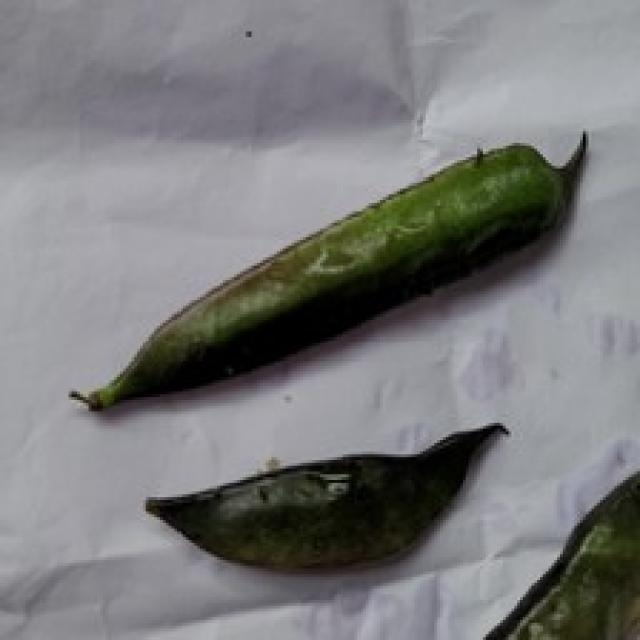Bean: (65, 126, 586, 411), (143, 420, 508, 571)
